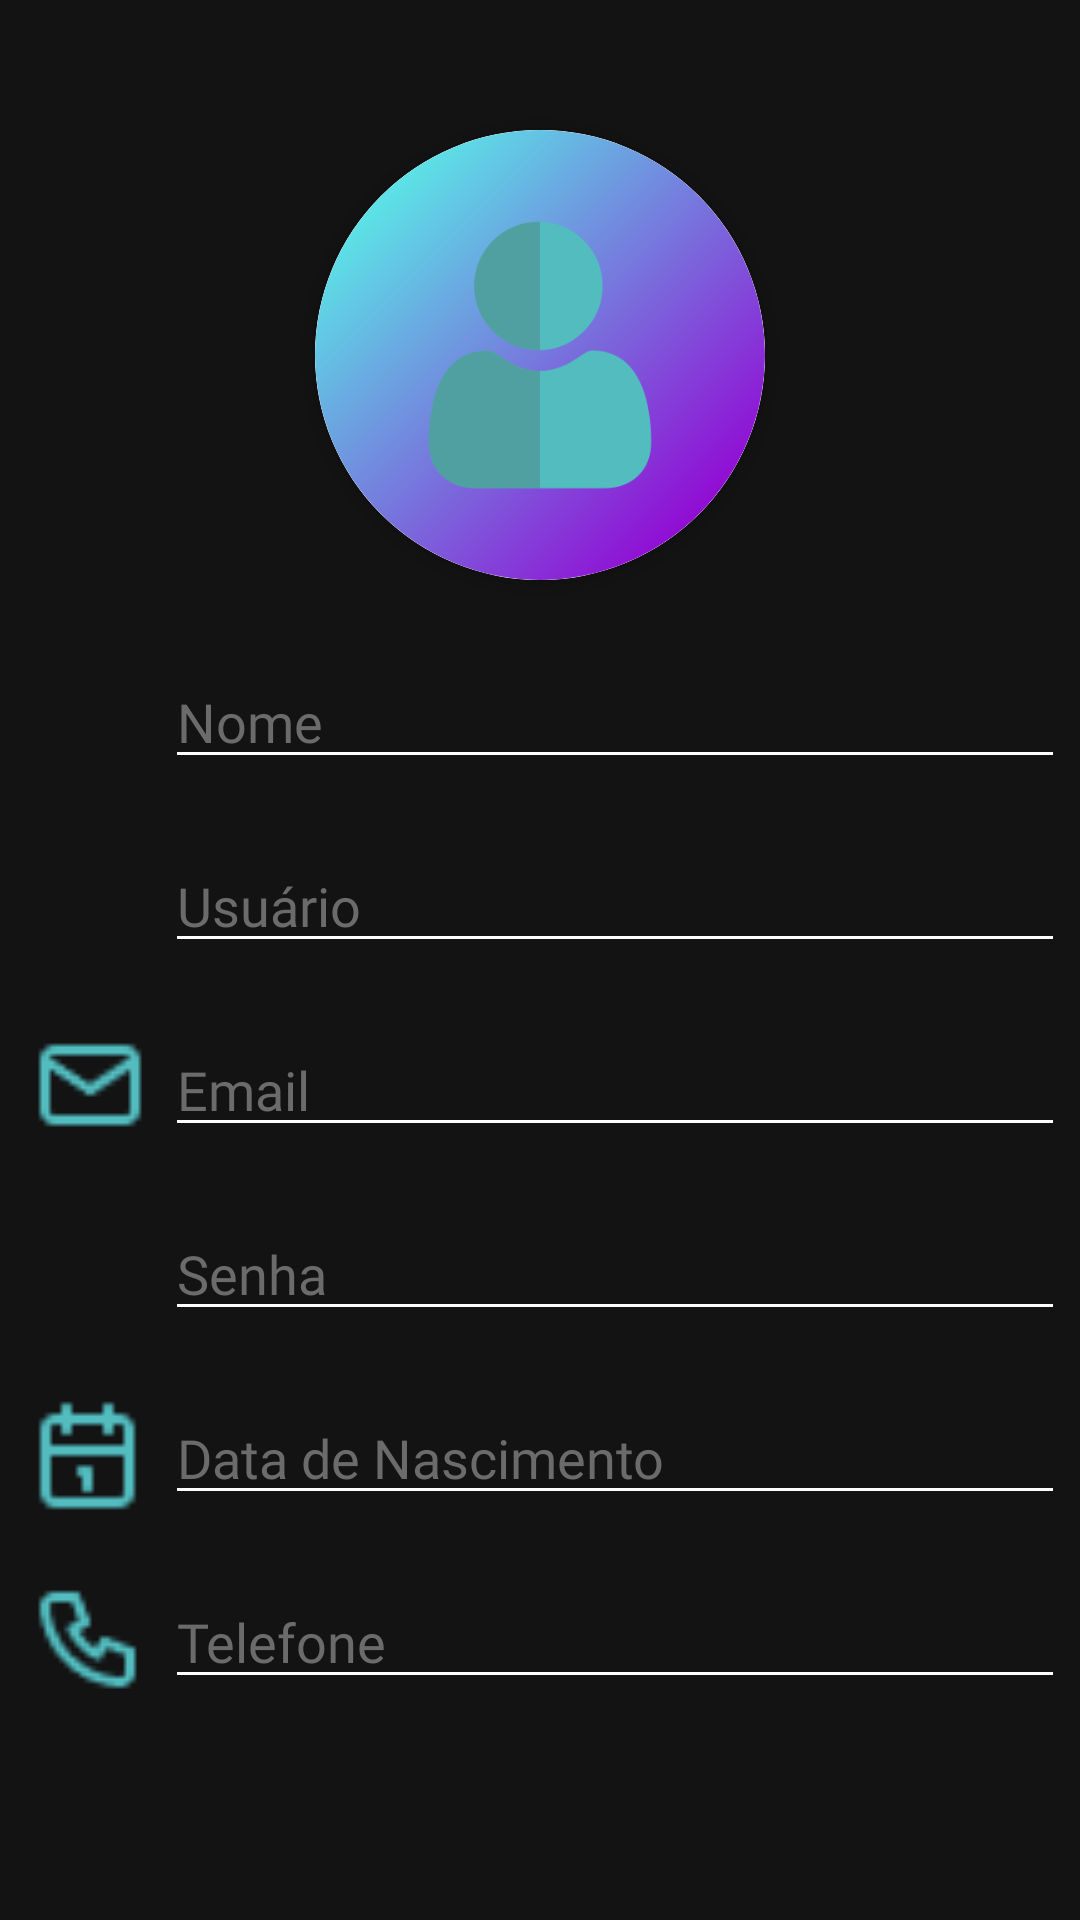

Named icons in this screenshot (1080px×1920px) and their centers, (x,y):
calendar: (87,1456)
phone: (87,1639)
